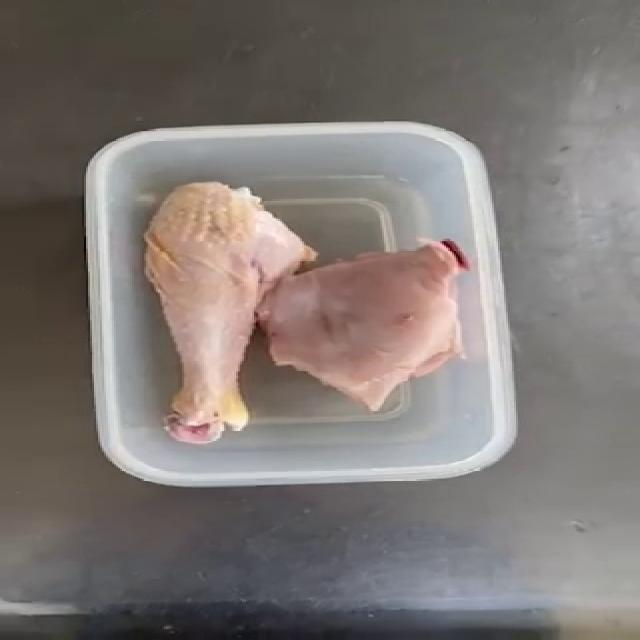chicken: (138, 176, 472, 437)
